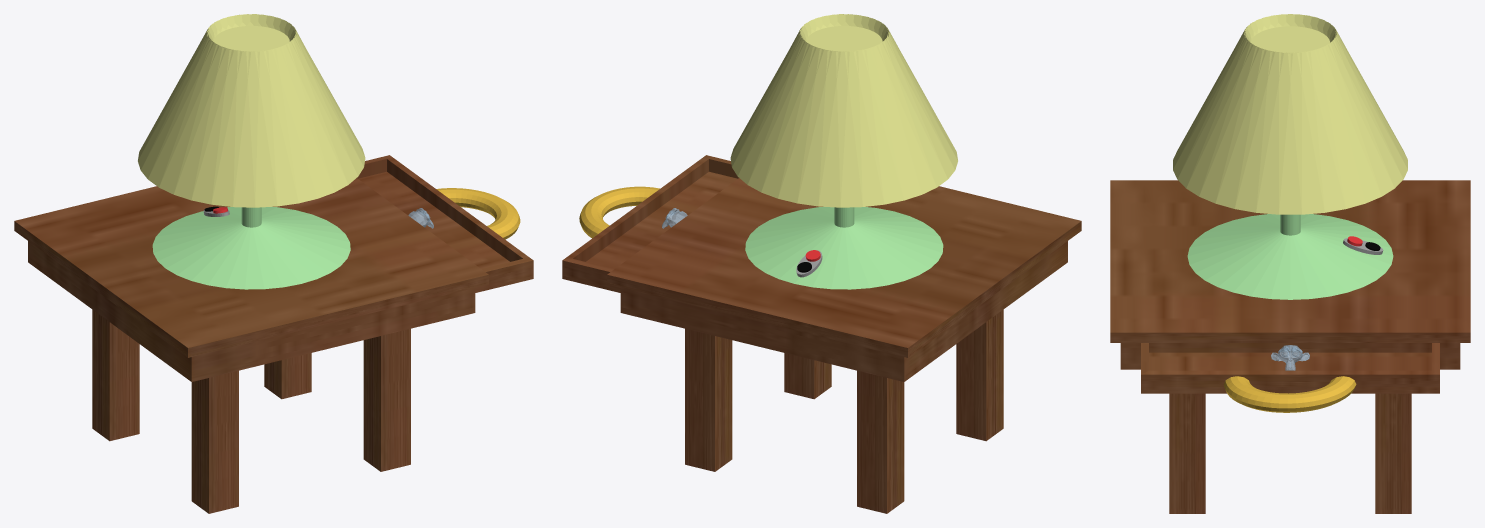
File: 3DScene.glb
3 renders of one model, left to right at view 1: azimuth 30°, elevation 25°; view 2: azimuth 150°, elevation 25°; view 3: azimuth 270°, elevation 25°, orthographic. The views are drawn at different scales.
Parts seen in each view (by area): view 1: Cube.004, Cone.001, Cone, Cube.005, Cube.007, Cube.001, Cube.003, Cube.002, Torus.001, Cube; view 2: Cube.004, Cone.001, Cone, Cube.005, Cube.007, Cube, Cube.002, Cube.003, Torus.001, Cube.001; view 3: Cube.004, Cone.001, Cone, Cube.007, Cube, Cube.001, Cube.005, Torus.001, Suzanne, Cylinder.
Part boxes in pixels (<box>): Cube.004: <box>14,178,488,357</box>; Cone.001: <box>138,14,365,207</box>; Cone: <box>152,206,350,289</box>; Cube.005: <box>28,241,475,381</box>; Cube.007: <box>357,155,533,292</box>; Cube.001: <box>363,328,410,471</box>; Cube.003: <box>191,370,238,513</box>; Cube.002: <box>92,309,139,441</box>; Torus.001: <box>436,188,520,239</box>; Cube: <box>264,353,311,399</box>; Cube.004: <box>607,178,1081,357</box>; Cone.001: <box>730,14,957,207</box>; Cone: <box>745,206,943,289</box>; Cube.005: <box>620,241,1067,381</box>; Cube.007: <box>562,155,738,292</box>; Cube: <box>685,328,732,471</box>; Cube.002: <box>857,370,904,513</box>; Cube.003: <box>956,309,1003,441</box>; Torus.001: <box>579,186,659,238</box>; Cube.001: <box>784,353,831,399</box>; Cube.004: <box>1110,180,1470,342</box>; Cone.001: <box>1173,14,1407,214</box>; Cone: <box>1187,214,1393,299</box>; Cube.007: <box>1141,343,1439,393</box>; Cube: <box>1375,393,1411,513</box>; Cube.001: <box>1169,393,1205,513</box>; Cube.005: <box>1120,343,1460,369</box>; Torus.001: <box>1224,376,1356,412</box>; Suzanne: <box>1271,345,1309,370</box>; Cylinder: <box>1280,214,1300,235</box>.
Size of what is drawn, in the model's own units: 9.5 by 9.2 by 7.
8 materials, 1 textured.
